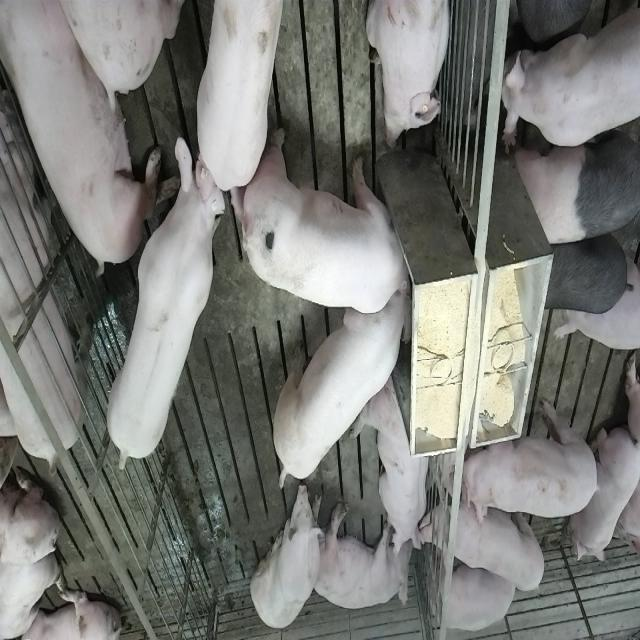Feeding: (242, 127, 420, 315), (268, 284, 411, 496)
Lateral_lying: (310, 501, 414, 611)
Sitting: (250, 480, 324, 632)
Standing: (105, 130, 226, 472), (0, 49, 95, 471), (498, 0, 638, 151), (462, 394, 602, 522), (189, 1, 281, 194), (512, 122, 638, 248), (535, 228, 634, 316)
Sternal_lying: (356, 372, 432, 554), (366, 0, 454, 150), (572, 420, 638, 566)
